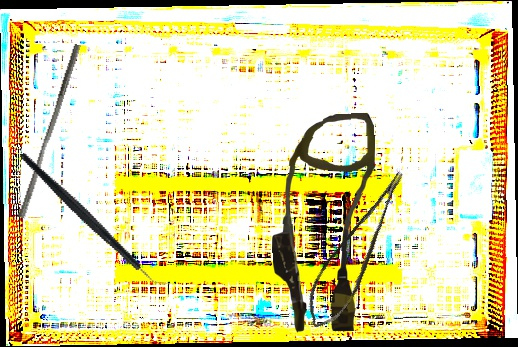Cannula: (267, 112, 382, 334)
Chopper: (19, 120, 172, 320)
Micro Scissor: (289, 166, 432, 338)
Pusher: (17, 41, 81, 221)
